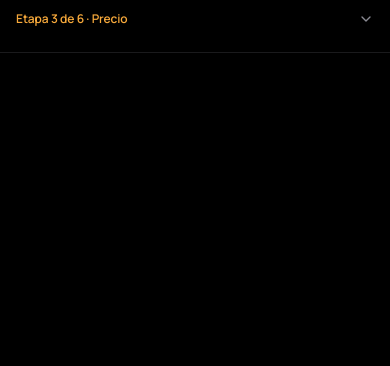
Scenario: StageBar › en el teléfono la línea abre las 6 etapas
Later steps or results of the test are not shown.
Click the button "Etapa 3 de 6 · Precio" at (33, 18), box x1=16 y1=10 x2=374 y2=28
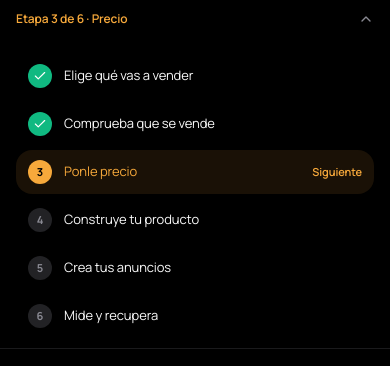
Now the text "Construye tu producto" is shown, box x1=64 y1=210 x2=199 y2=228
